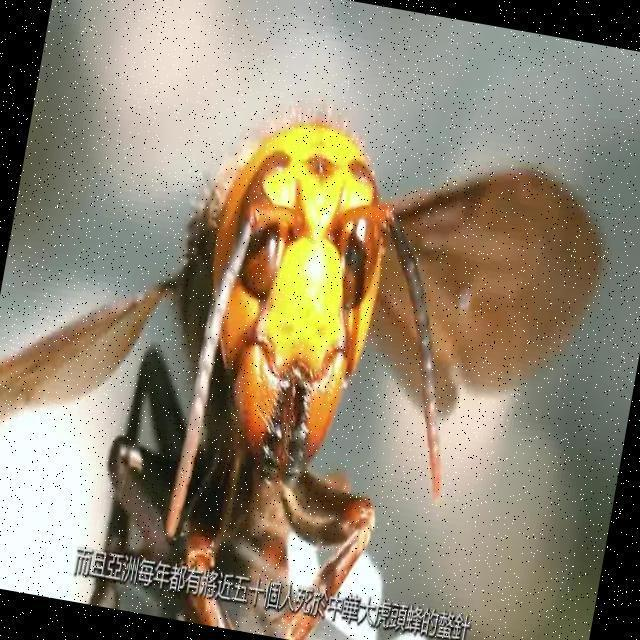Wasp: (8, 102, 598, 583)
